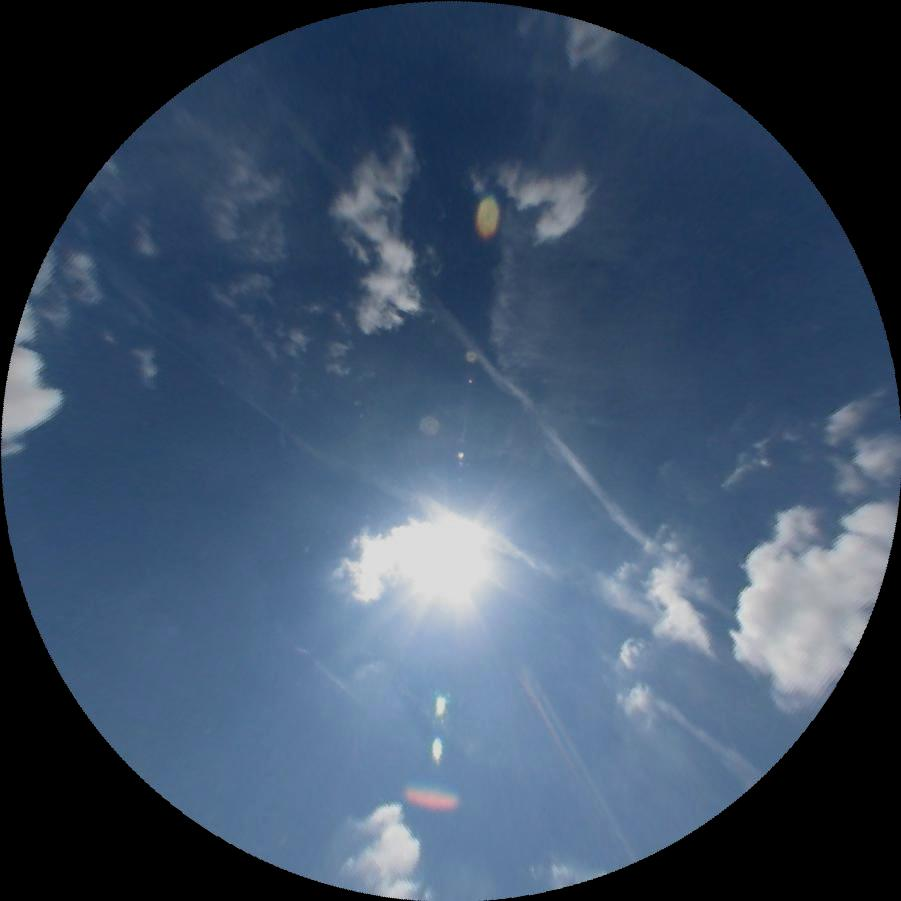contrail veryold: (251, 92, 738, 638), (357, 461, 560, 579)
parasite: (46, 251, 284, 427)
sun: (417, 518, 500, 601)
unknow: (648, 684, 760, 789)
